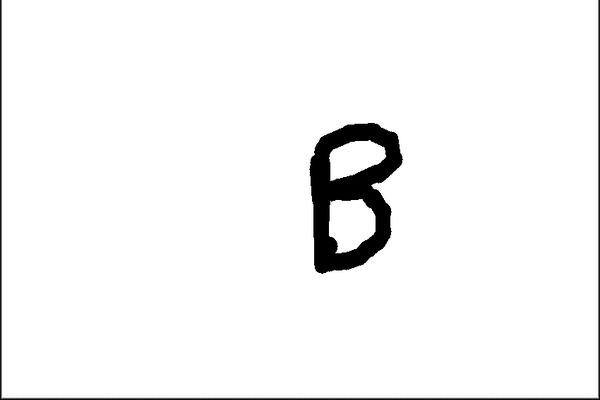B: (300, 112, 409, 279)
